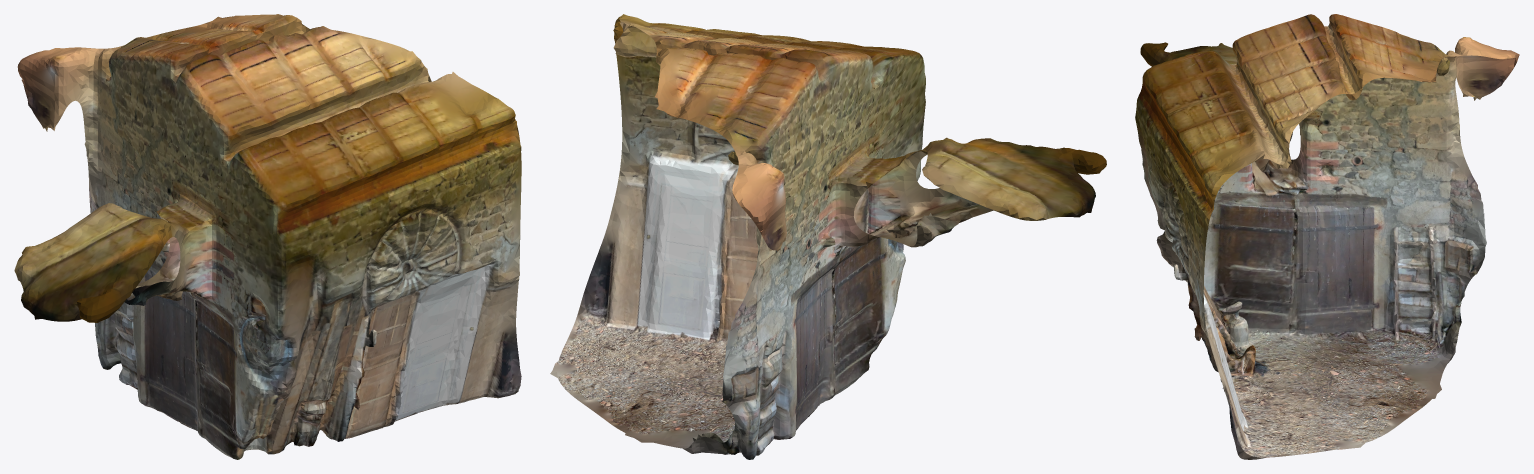
Rendered from 20_05_2026-grange-Bois.fbx.
3 renders of one model, left to right at view 1: azimuth 30°, elevation 25°; view 2: azimuth 150°, elevation 25°; view 3: azimuth 270°, elevation 25°, orthographic. The views are drawn at different scales.
Parts seen in each view (by area): view 1: mesh_0; view 2: mesh_0; view 3: mesh_0.
Boxes of the visible parts, x1,y1,x2,y2 form: mesh_0: (14,14,521,459); mesh_0: (550,14,1106,459); mesh_0: (1135,14,1519,459).
Bounding box in the file's own units: 5.93 × 4.21 × 4.47.
Materials: 1 (1 with a texture image).
